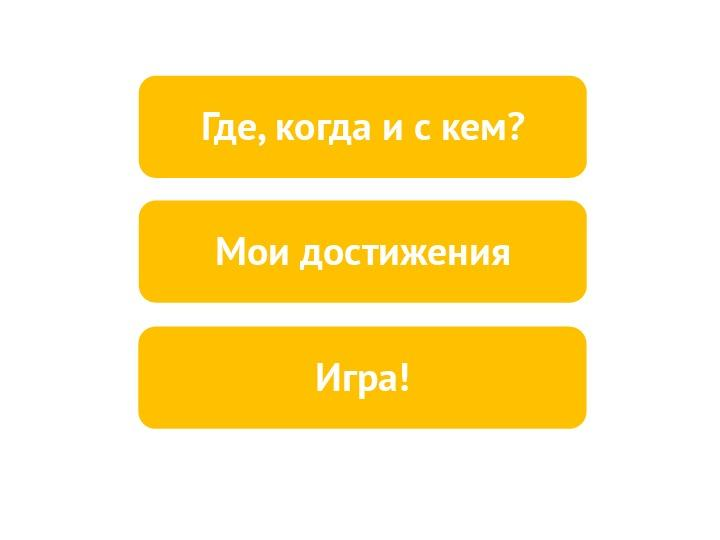title: (100, 49, 600, 452)
